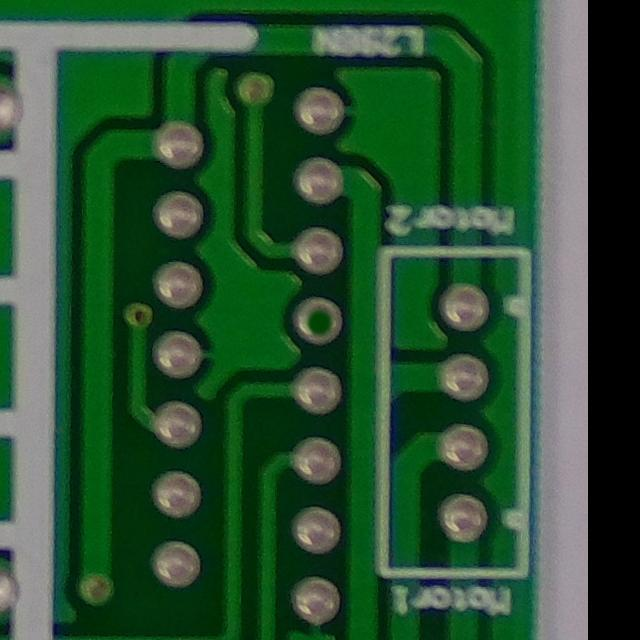missing_hole: (288, 287, 352, 354)
